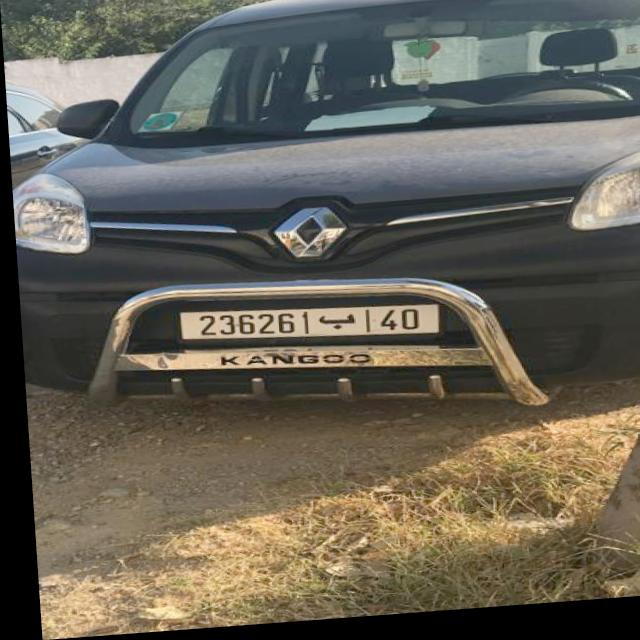License-Plate: (175, 310, 433, 343)
